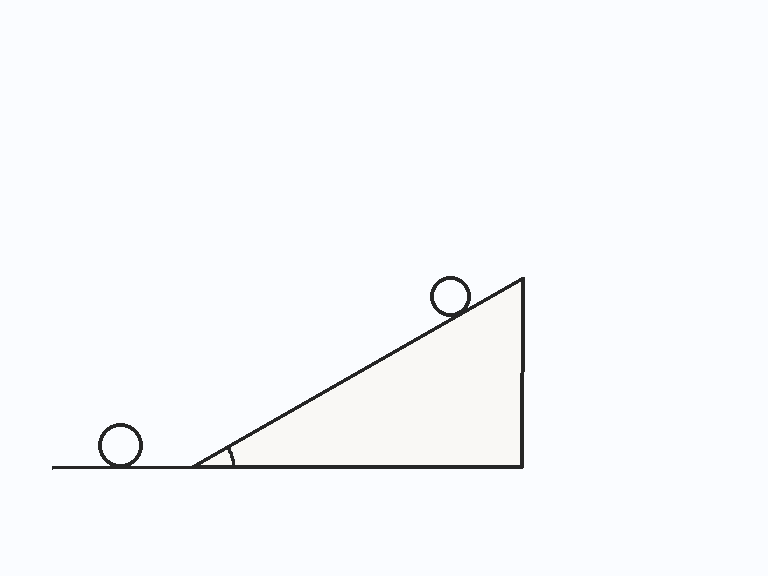ball: (96, 421, 144, 469), (428, 274, 472, 318)
ramp: (191, 275, 524, 469)
